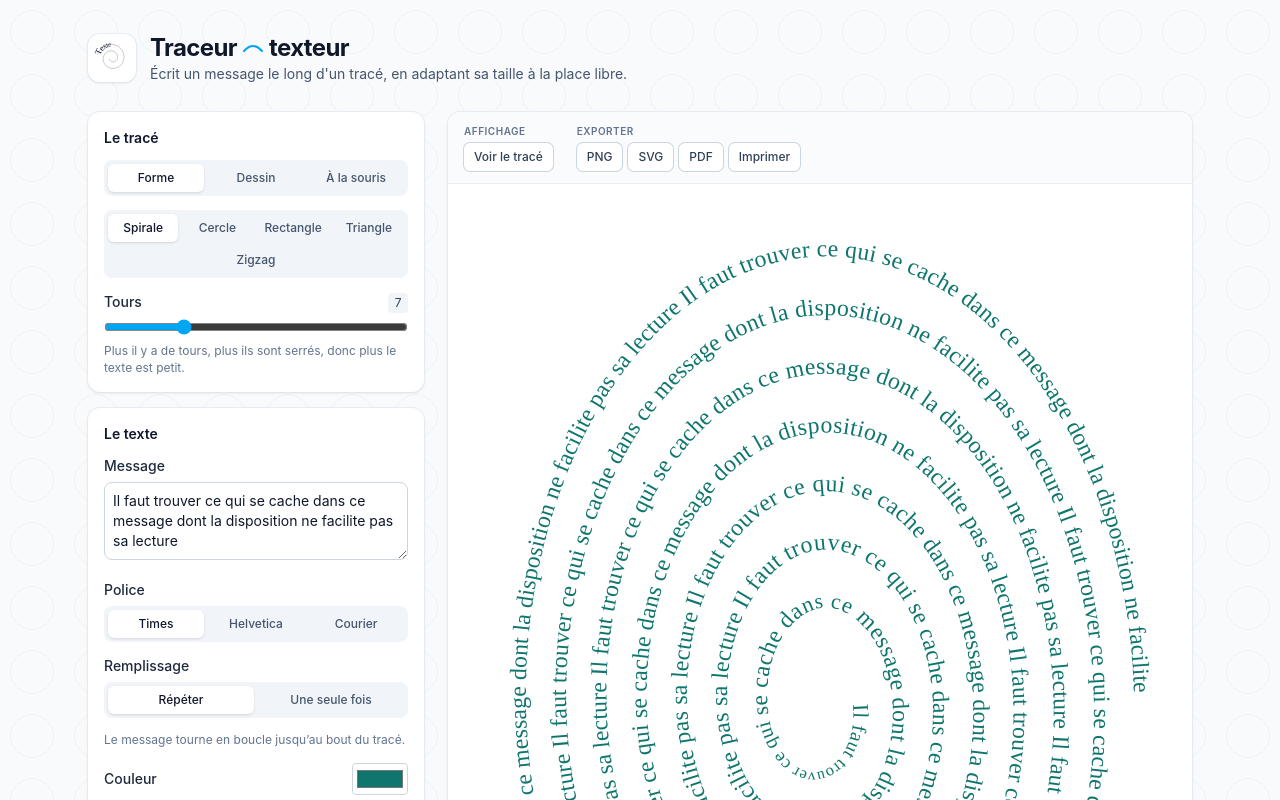
Test: App › offre une zone de tracé quand la source est la souris
Click the button "À la souris" at (356, 178), box [308,164,404,192]
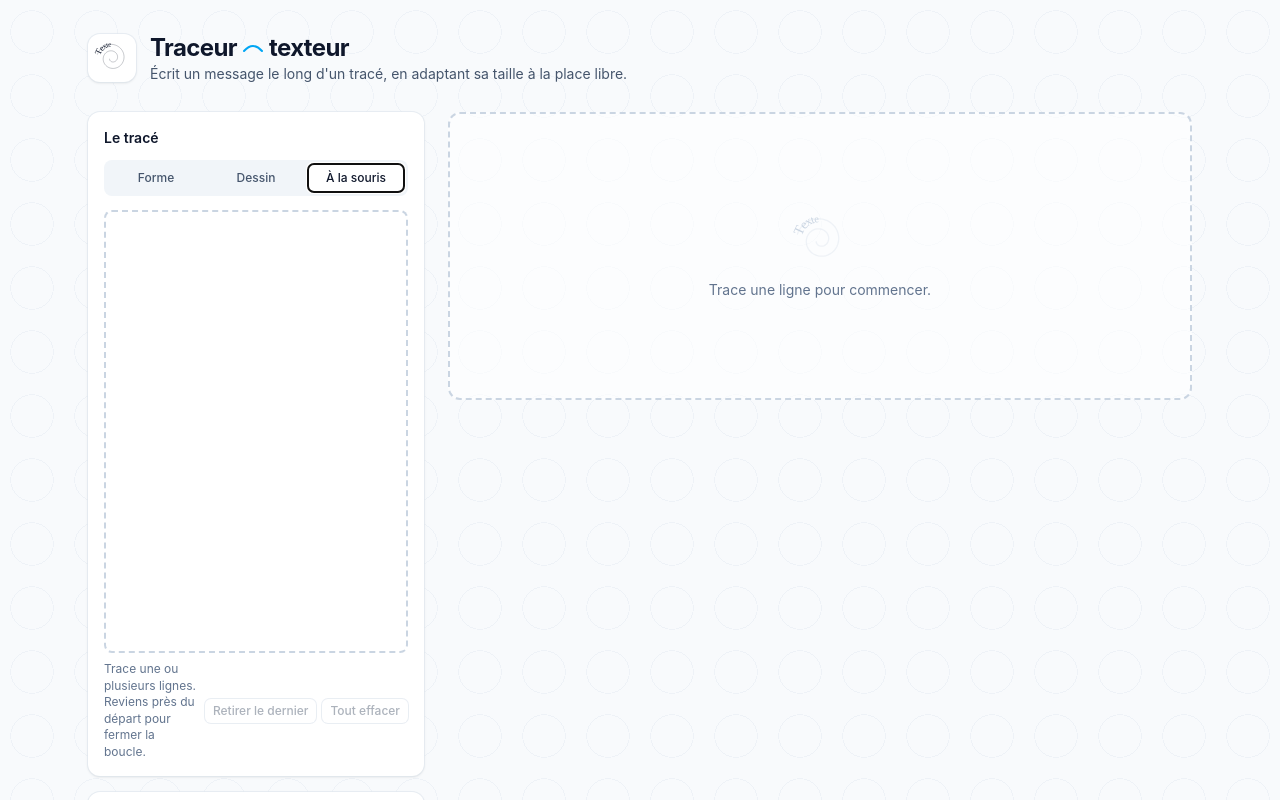
Check: the element named "tracé à la souris" is shown, box [104,210,408,653]
